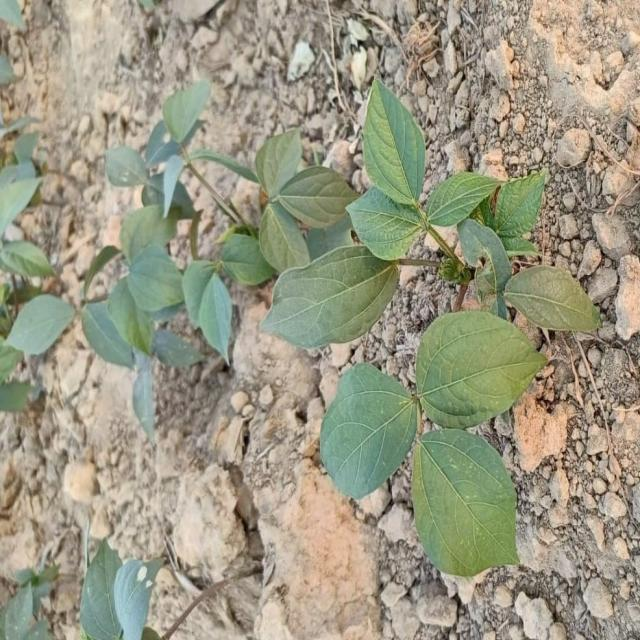plant: (79, 80, 600, 576), (0, 114, 78, 409), (81, 540, 161, 639)
